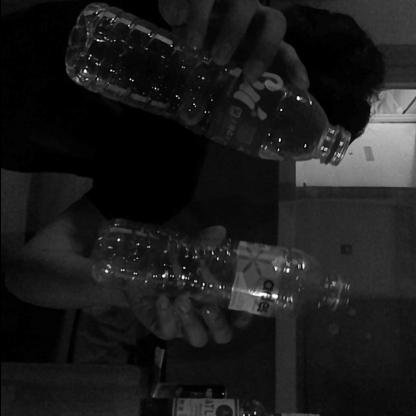plastic_bottles: (68, 6, 354, 169), (95, 208, 356, 316)
